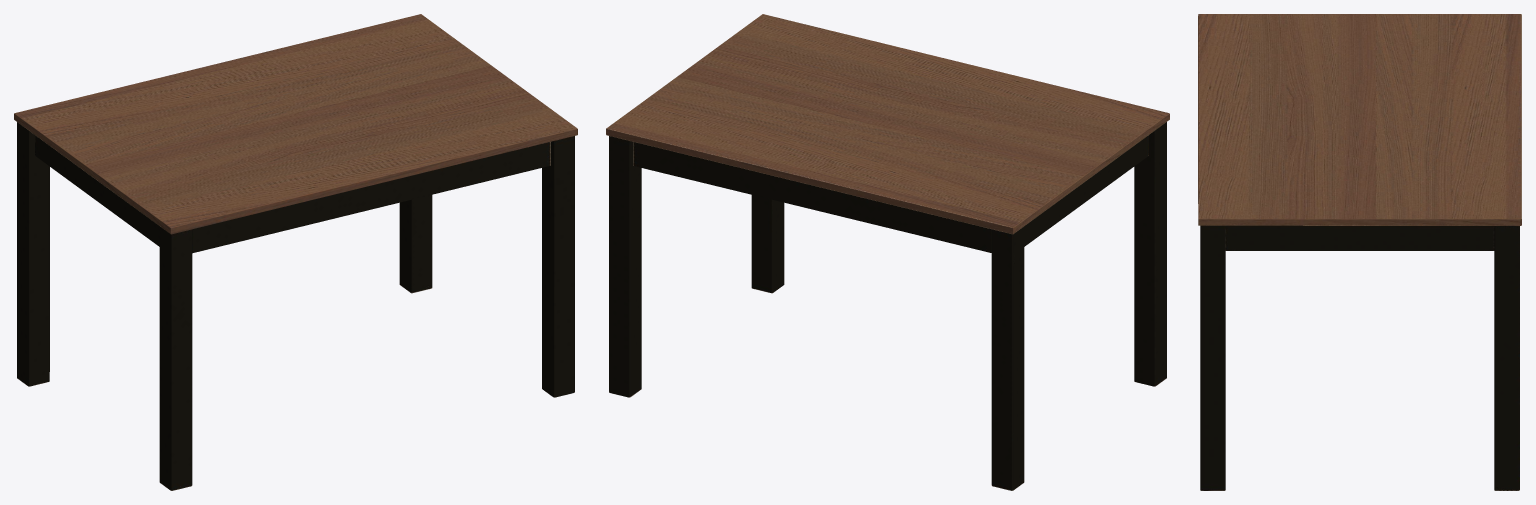
The model's file is alhult_sto_40600793.glb.
3 renders of one model, left to right at view 1: azimuth 30°, elevation 25°; view 2: azimuth 150°, elevation 25°; view 3: azimuth 270°, elevation 25°, orthographic. The views are drawn at different scales.
Parts seen in each view (by area): view 1: alhult_sto_40600793; view 2: alhult_sto_40600793; view 3: alhult_sto_40600793.
Part boxes in pixels (left/top/right/bottom): alhult_sto_40600793: left=14, top=14, right=577, bottom=490; alhult_sto_40600793: left=606, top=14, right=1169, bottom=490; alhult_sto_40600793: left=1198, top=14, right=1521, bottom=490.
Size of the model in its own units: 1.2 by 0.7472 by 0.8001.
Materials: 1 (1 with a texture image).
